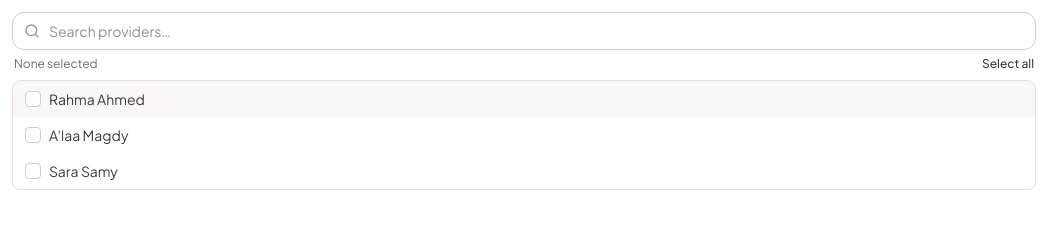
Test: EntityPicker — multiple mode › "Select all" selects every currently visible (filtered) item, not the full unfiltered list
Type "a" into the dropdown at (524, 31), box left=12, top=12, right=1036, bottom=50
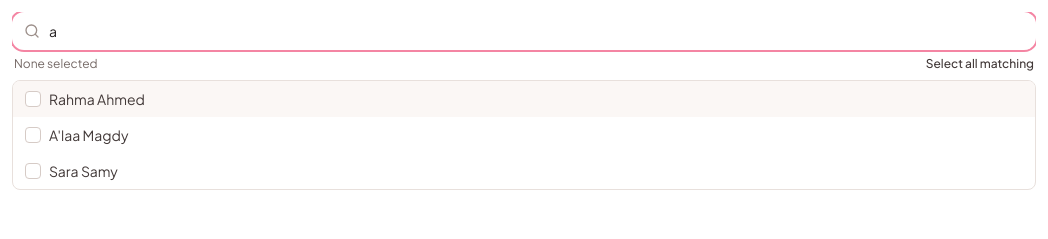
Click the button "Select all matching" at (980, 64), box left=926, top=56, right=1034, bottom=72
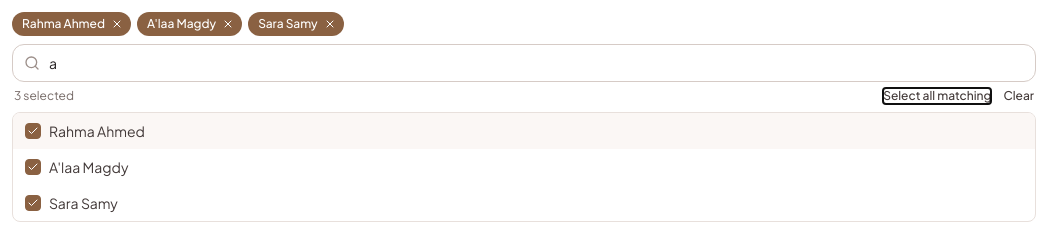
Result: the text "3 selected" is shown at left=14, top=88, right=74, bottom=104
